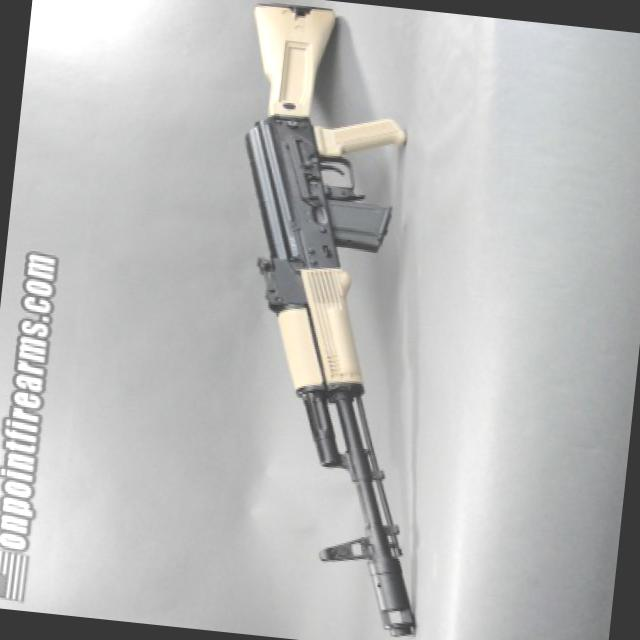long weapon: (182, 0, 476, 639)
